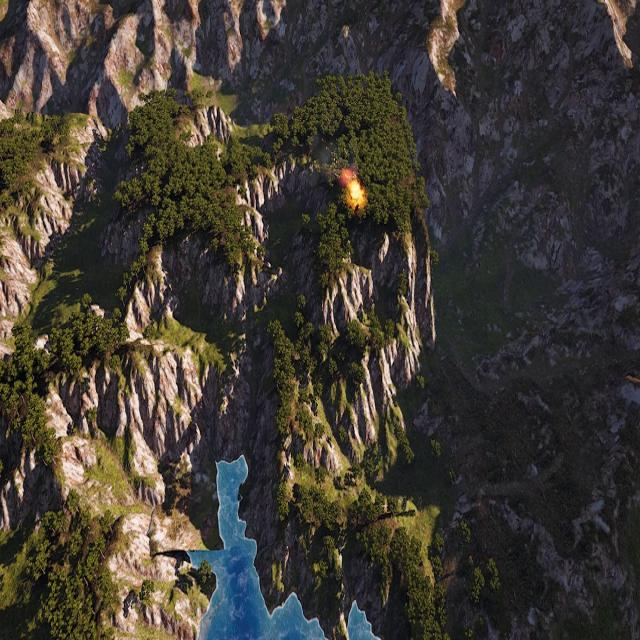fire: (343, 176, 364, 208)
